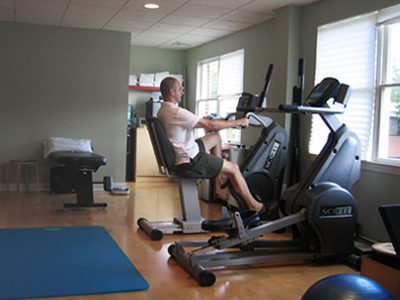gym_bike: (164, 80, 376, 286), (137, 99, 288, 239)
